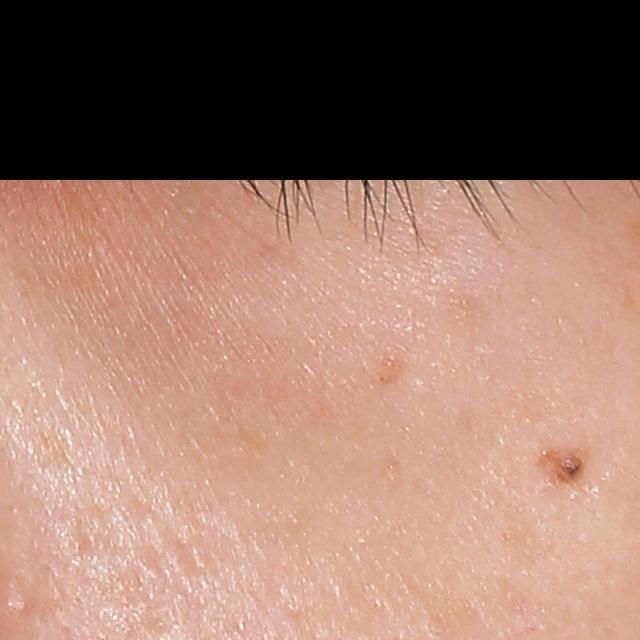melasma: (378, 347, 407, 387)
nevus: (533, 442, 595, 487)
